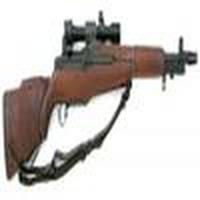gun: (1, 18, 200, 145)
